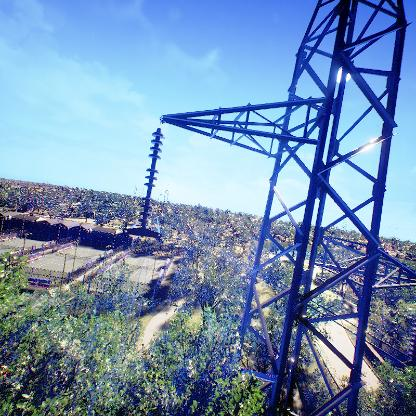insulator: (135, 130, 167, 225)
